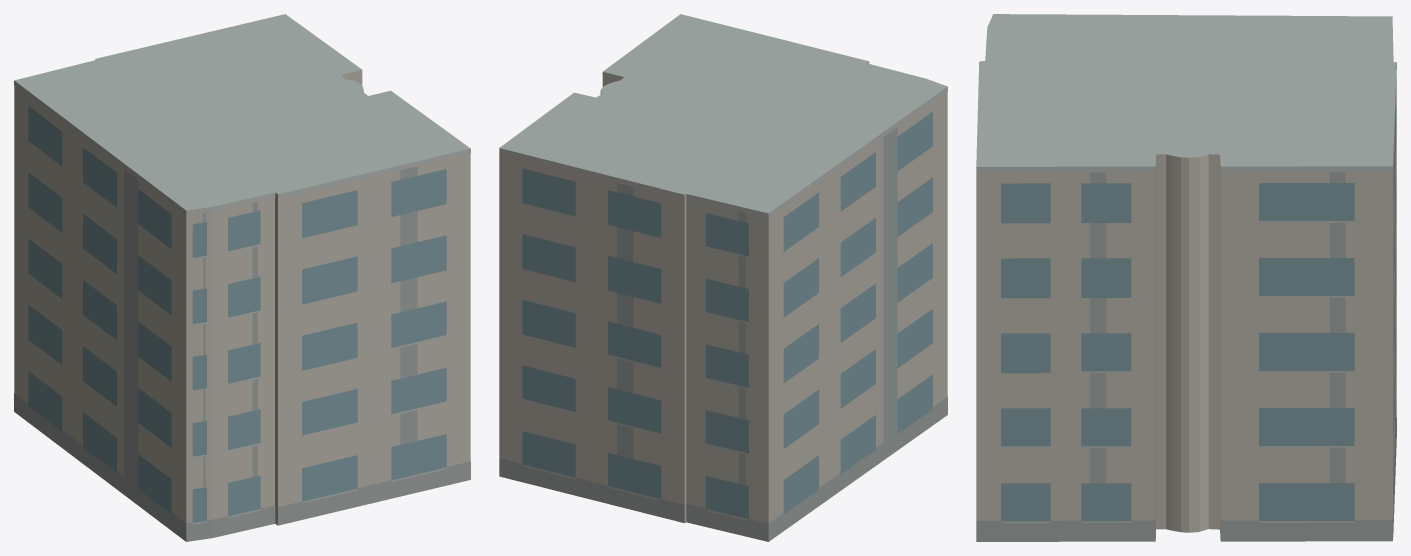
The model's file is survey-upis-32824406.glb.
The picture shows the model from 3 angles, left to right: view 1: azimuth 30°, elevation 25°; view 2: azimuth 150°, elevation 25°; view 3: azimuth 270°, elevation 25°; orthographic projection. The views are drawn at different scales.
Parts seen in each view (by area): view 1: survey-upis-32824406.tmp; view 2: survey-upis-32824406.tmp; view 3: survey-upis-32824406.tmp.
Part boxes in pixels (x1=…): survey-upis-32824406.tmp: x1=14, y1=14, x2=470, y2=541; survey-upis-32824406.tmp: x1=499, y1=14, x2=947, y2=541; survey-upis-32824406.tmp: x1=976, y1=14, x2=1396, y2=541.
Size of the model in its own units: 13.66 by 15.6 by 15.87.
